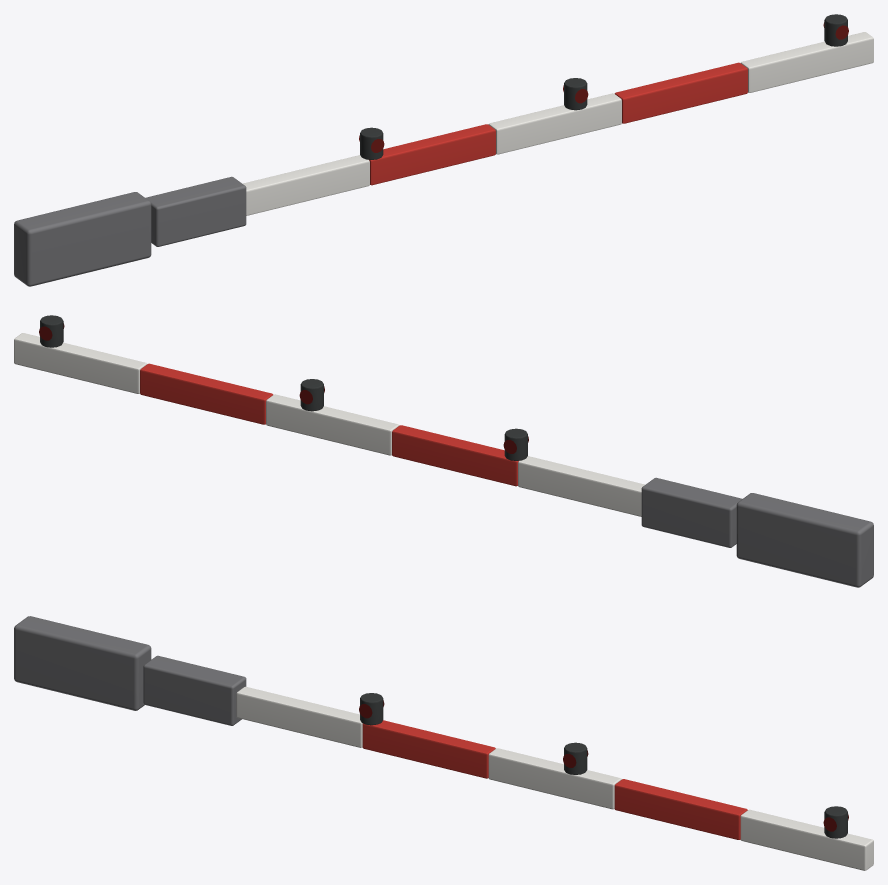
Rendered from rail.crossing.boom_3.glb.
3 views of the same model, one above another, from view 1: azimuth 30°, elevation 25°; view 2: azimuth 150°, elevation 25°; view 3: azimuth 330°, elevation 25° (orthographic).
Parts seen in each view (by area): view 1: main__galv_777, main__paint_eee, main__paint_c33, main__paint_333; view 2: main__galv_777, main__paint_eee, main__paint_c33, main__paint_333; view 3: main__galv_777, main__paint_eee, main__paint_c33, main__paint_333.
Part boxes in pixels (<box>): main__galv_777: <box>14,176,246,286</box>; main__paint_eee: <box>243,32,873,215</box>; main__paint_c33: <box>369,62,747,185</box>; main__paint_333: <box>360,14,847,159</box>; main__galv_777: <box>641,477,873,587</box>; main__paint_eee: <box>14,333,644,516</box>; main__paint_c33: <box>140,363,518,486</box>; main__paint_333: <box>40,315,527,460</box>; main__galv_777: <box>14,616,246,725</box>; main__paint_eee: <box>236,686,873,870</box>; main__paint_c33: <box>362,720,747,839</box>; main__paint_333: <box>360,693,847,838</box>.
Bounding box in the file's own units: 3.75 × 0.275 × 0.12.
